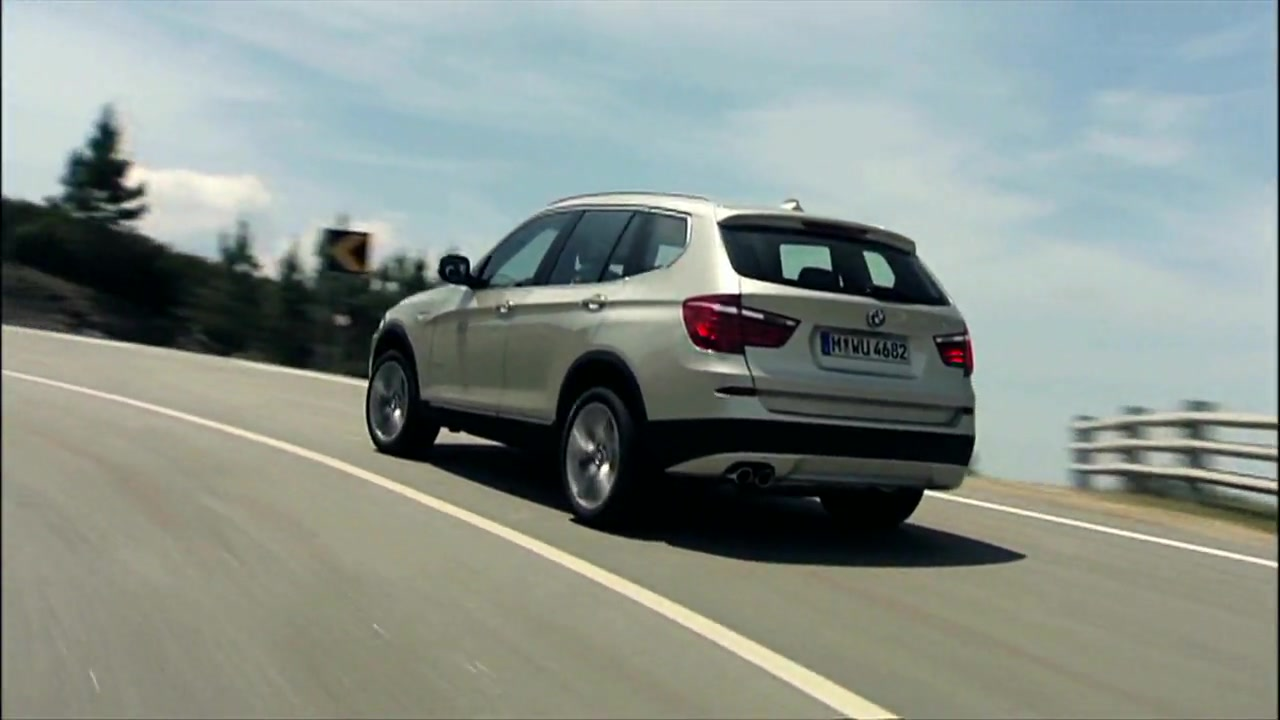car: (364, 190, 980, 533)
